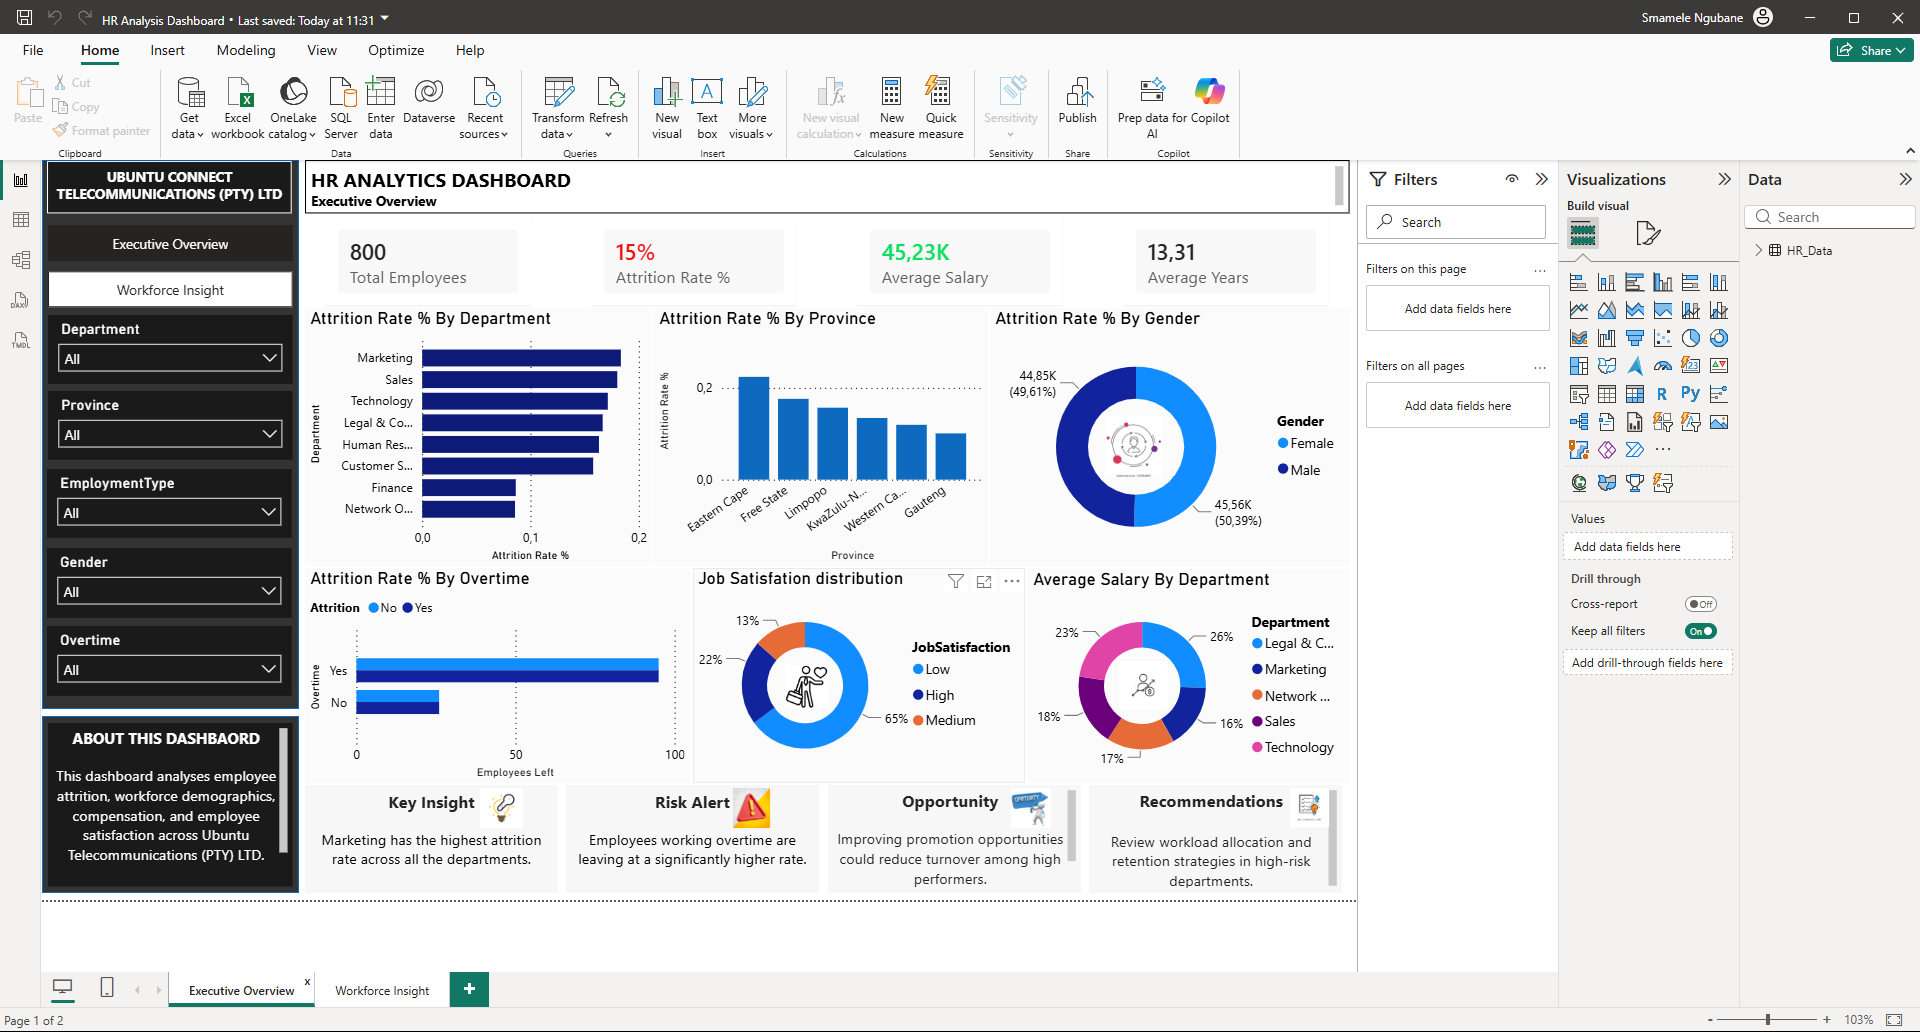

The page's visual inventory and layout, read from the dashboard file:
{"tool":"powerbi","page":{"name":"Executive Overview","canvas":[1280,720],"ordinal":0},"visuals":[{"type":"slicer","fields":{"Values":["HR_Data.EmploymentType"]},"box":[6.3,377,238.2,69],"z":0},{"type":"shape","box":[1,0,250,534],"z":1000},{"type":"textbox","box":[6.3,1.3,238.2,51],"z":2000},{"type":"pageNavigator","box":[6.8,63.3,238.2,80.6],"z":3000},{"type":"slicer","fields":{"Values":["HR_Data.Overtime"]},"box":[6.3,453.1,238.2,68.1],"z":4000},{"type":"slicer","fields":{"Values":["HR_Data.Gender"]},"box":[6.3,377,238.2,68.1],"z":5000},{"type":"slicer","fields":{"Values":["HR_Data.EmploymentType"]},"box":[6.3,300.9,238.2,67.2],"z":6000},{"type":"slicer","fields":{"Values":["HR_Data.Department"]},"box":[7.2,150.4,238.2,67.2],"z":7000},{"type":"textbox","box":[257,0,1016.4,51.9],"z":8000},{"type":"cardVisual","fields":{"Data":["HR_Data.Total Employees"]},"box":[275.8,55,200,86.9],"z":9000},{"type":"cardVisual","fields":{"Data":["HR_Data.Attrition Rate %"]},"box":[534.6,55,200,86.9],"z":10000},{"type":"cardVisual","fields":{"Data":["HR_Data.Average Salary"]},"box":[793.4,55,200,86.9],"z":11000},{"type":"cardVisual","fields":{"Data":["HR_Data.Average Years"]},"box":[1052.2,55,200,86.9],"z":12000},{"type":"clusteredBarChart","title":"Attrition Rate % By Department","fields":{"Category":["HR_Data.Department"],"Y":["HR_Data.Attrition Rate %"]},"box":[257,144.2,337.6,250.7],"z":13000},{"type":"clusteredColumnChart","title":"Attrition Rate % By Province","fields":{"Category":["HR_Data.Province"],"Y":["HR_Data.Attrition Rate %"]},"box":[596,144,324.9,250.9],"z":14000},{"type":"donutChart","title":"Attrition Rate % By Gender","fields":{"Category":["HR_Data.Gender"],"Y":["HR_Data.Average Salary"]},"box":[923,144,350.2,250.9],"z":15000},{"type":"clusteredBarChart","title":"Attrition Rate % By Overtime","fields":{"Category":["HR_Data.Overtime"],"Y":["HR_Data.Employees Left"],"Series":["HR_Data.Attrition"]},"box":[256.8,396.8,374.5,209.1],"z":16000},{"type":"donutChart","title":"Job Satisfation distribution","fields":{"Category":["HR_Data.JobSatisfaction"],"Y":["HR_Data.Attrition Rate %"]},"box":[634.2,396.8,322.9,209.1],"z":17000},{"type":"donutChart","title":"Average Salary By Department","fields":{"Y":["HR_Data.Average Salary"],"Series":["HR_Data.Department"]},"box":[960,397.8,313.2,208.1],"z":18000},{"type":"shape","box":[1,540.8,250,172.2],"z":19000},{"type":"textbox","box":[6.8,547.6,238.3,158.5],"z":20000},{"type":"textbox","box":[256.8,607.9,246.1,105],"z":21000},{"type":"textbox","box":[510.6,607.9,246.1,105],"z":22000},{"type":"textbox","box":[765.5,607.9,246.1,105],"z":23000},{"type":"textbox","box":[1019.3,607.9,246.1,105],"z":24000},{"type":"image","box":[427,610.8,41.8,38.9],"z":25000},{"type":"image","box":[672.1,610.8,37.9,38.9],"z":26000},{"type":"image","box":[942.5,610.8,41.8,38.9],"z":27000},{"type":"image","box":[1214.8,610.8,37.9,38.9],"z":28000},{"type":"slicer","fields":{"Values":["HR_Data.Province"]},"box":[6.8,224.7,238.3,67.1],"z":29000},{"type":"image","box":[1034.9,249,56.4,60.3],"z":30000},{"type":"image","box":[723.6,487.3,41.8,50.6],"z":31000},{"type":"image","box":[1045.6,487.3,52.5,46.7],"z":32000}]}

Visuals, with their boxes on the page's 1280x720 design canvas (x1, y1, x2, y2). These are canvas units, not pixel positions in the 1920x1032 screenshot, which may show the page scaled, cropped or inside an application window:
slicer - HR_Data.EmploymentType: (6,377,244,446)
shape: (1,0,251,534)
textbox: (6,1,244,52)
pageNavigator: (7,63,245,144)
slicer - HR_Data.Overtime: (6,453,244,521)
slicer - HR_Data.Gender: (6,377,244,445)
slicer - HR_Data.EmploymentType: (6,301,244,368)
slicer - HR_Data.Department: (7,150,245,218)
textbox: (257,0,1273,52)
cardVisual - HR_Data.Total Employees: (276,55,476,142)
cardVisual - HR_Data.Attrition Rate %: (535,55,735,142)
cardVisual - HR_Data.Average Salary: (793,55,993,142)
cardVisual - HR_Data.Average Years: (1052,55,1252,142)
"Attrition Rate % By Department" clusteredBarChart: (257,144,595,395)
"Attrition Rate % By Province" clusteredColumnChart: (596,144,921,395)
"Attrition Rate % By Gender" donutChart: (923,144,1273,395)
"Attrition Rate % By Overtime" clusteredBarChart: (257,397,631,606)
"Job Satisfation distribution" donutChart: (634,397,957,606)
"Average Salary By Department" donutChart: (960,398,1273,606)
shape: (1,541,251,713)
textbox: (7,548,245,706)
textbox: (257,608,503,713)
textbox: (511,608,757,713)
textbox: (766,608,1012,713)
textbox: (1019,608,1265,713)
image: (427,611,469,650)
image: (672,611,710,650)
image: (942,611,984,650)
image: (1215,611,1253,650)
slicer - HR_Data.Province: (7,225,245,292)
image: (1035,249,1091,309)
image: (724,487,765,538)
image: (1046,487,1098,534)
